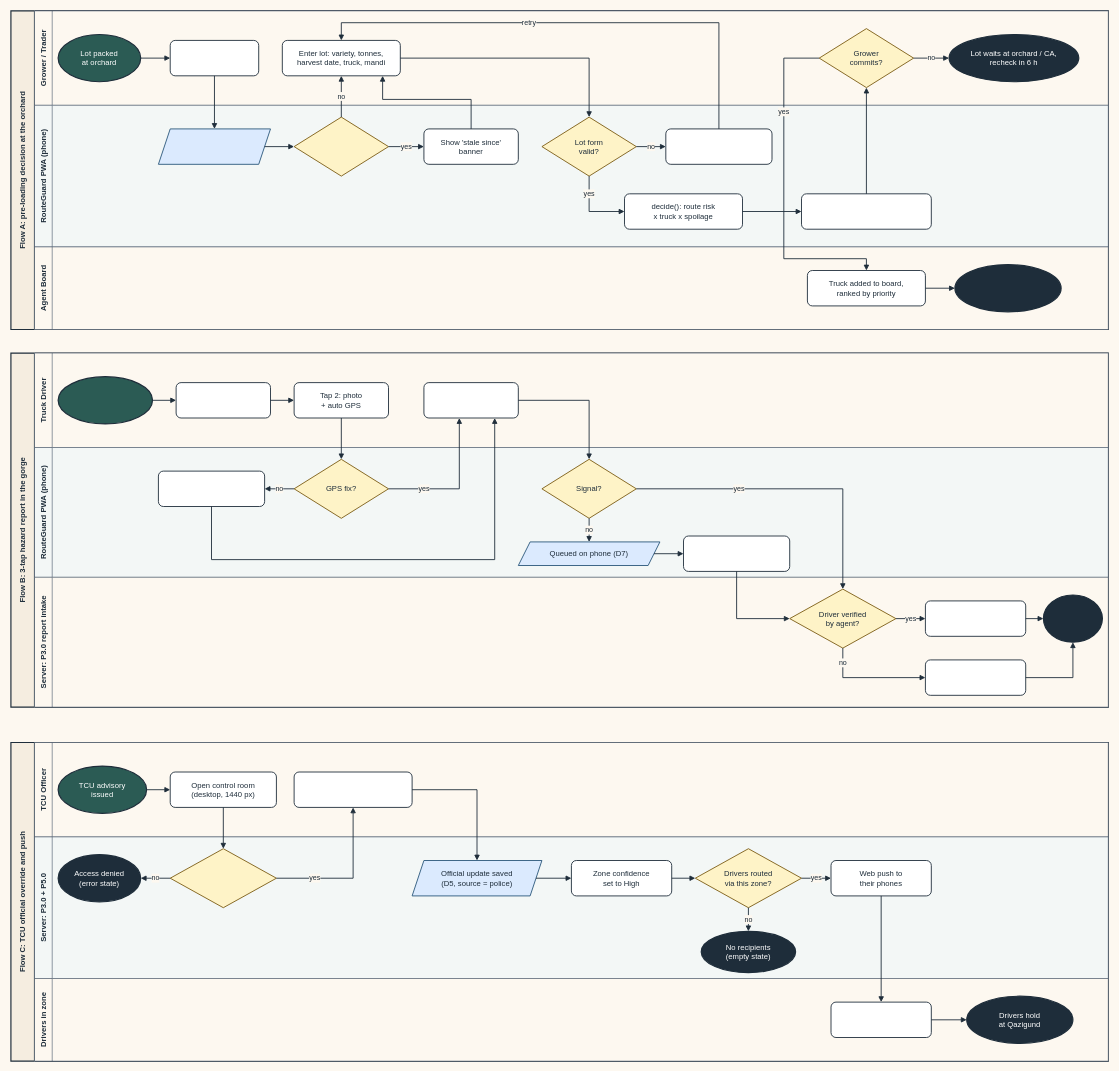
The diagram is 1119 pixels wide and 1071 high, and some of its shapes have lost their labels. The shapes that lost their labels are listed below. From the top down, each one's centre as x and y in pixels, then its label:
At [214,58]: "Open RouteGuard (works offline)".
At [214,146]: "Cached risk summary (D7)".
At [341,146]: "Scores older than 2 h?".
At [718,146]: "Inline field error, entries kept".
At [866,211]: "Advice card: SEND / HOLD 6 h / RAIL / DIVERT + reason".
At [1007,288]: "Agent assigns a driver".
At [105,400]: "Debris at Digdol (zone 4)".
At [223,400]: "Tap 1: hazard icon".
At [470,400]: "Tap 3: send".
At [211,488]: "GPS denied: pick zone from list".
At [736,553]: "Auto-send when signal returns".
At [975,618]: "Shown as verified, push to the zone".
At [1073,618]: "Report on map".
At [975,677]: "Shown 'unconfirmed', expires in 6 h".
At [352,789]: "Pick zone + type (closure / one-way)".
At [223,878]: "Signed in as police / admin?".
At [880,1019]: "Alert shown, offline copy kept".
